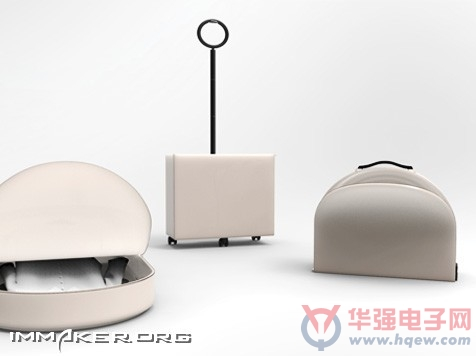suitcase: (164, 18, 278, 246), (165, 21, 278, 246)
